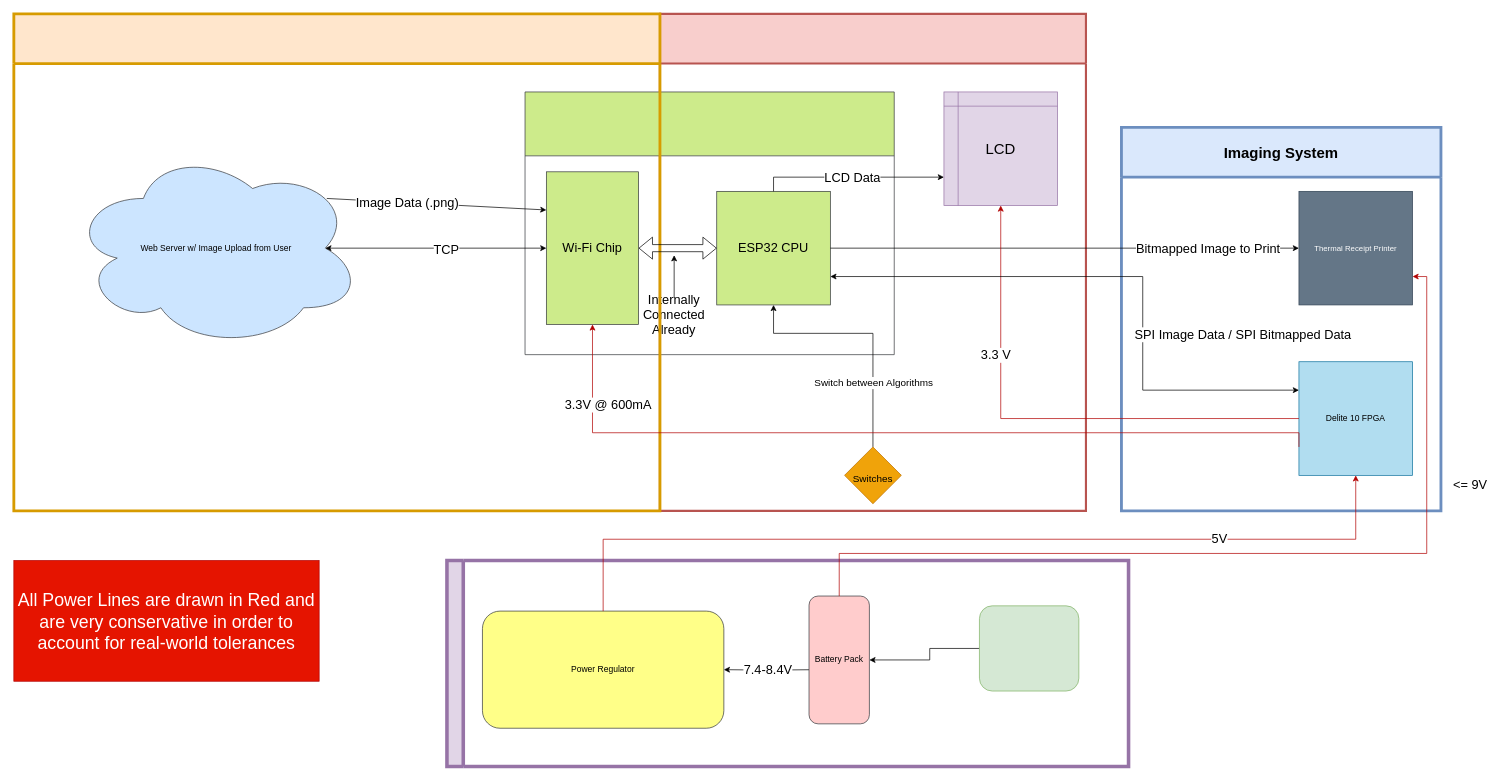
This 1499x780 diagram has some shape labels left out. Here are the shapes that lost their labels. From the top down, the box of each, then its label:
(524, 91, 894, 355): ESP32 SMT Module
(12, 12, 661, 512): Wireless System
(659, 12, 1087, 512): Board System
(445, 558, 1130, 768): Battery System
(979, 605, 1079, 691): Battery Charger
